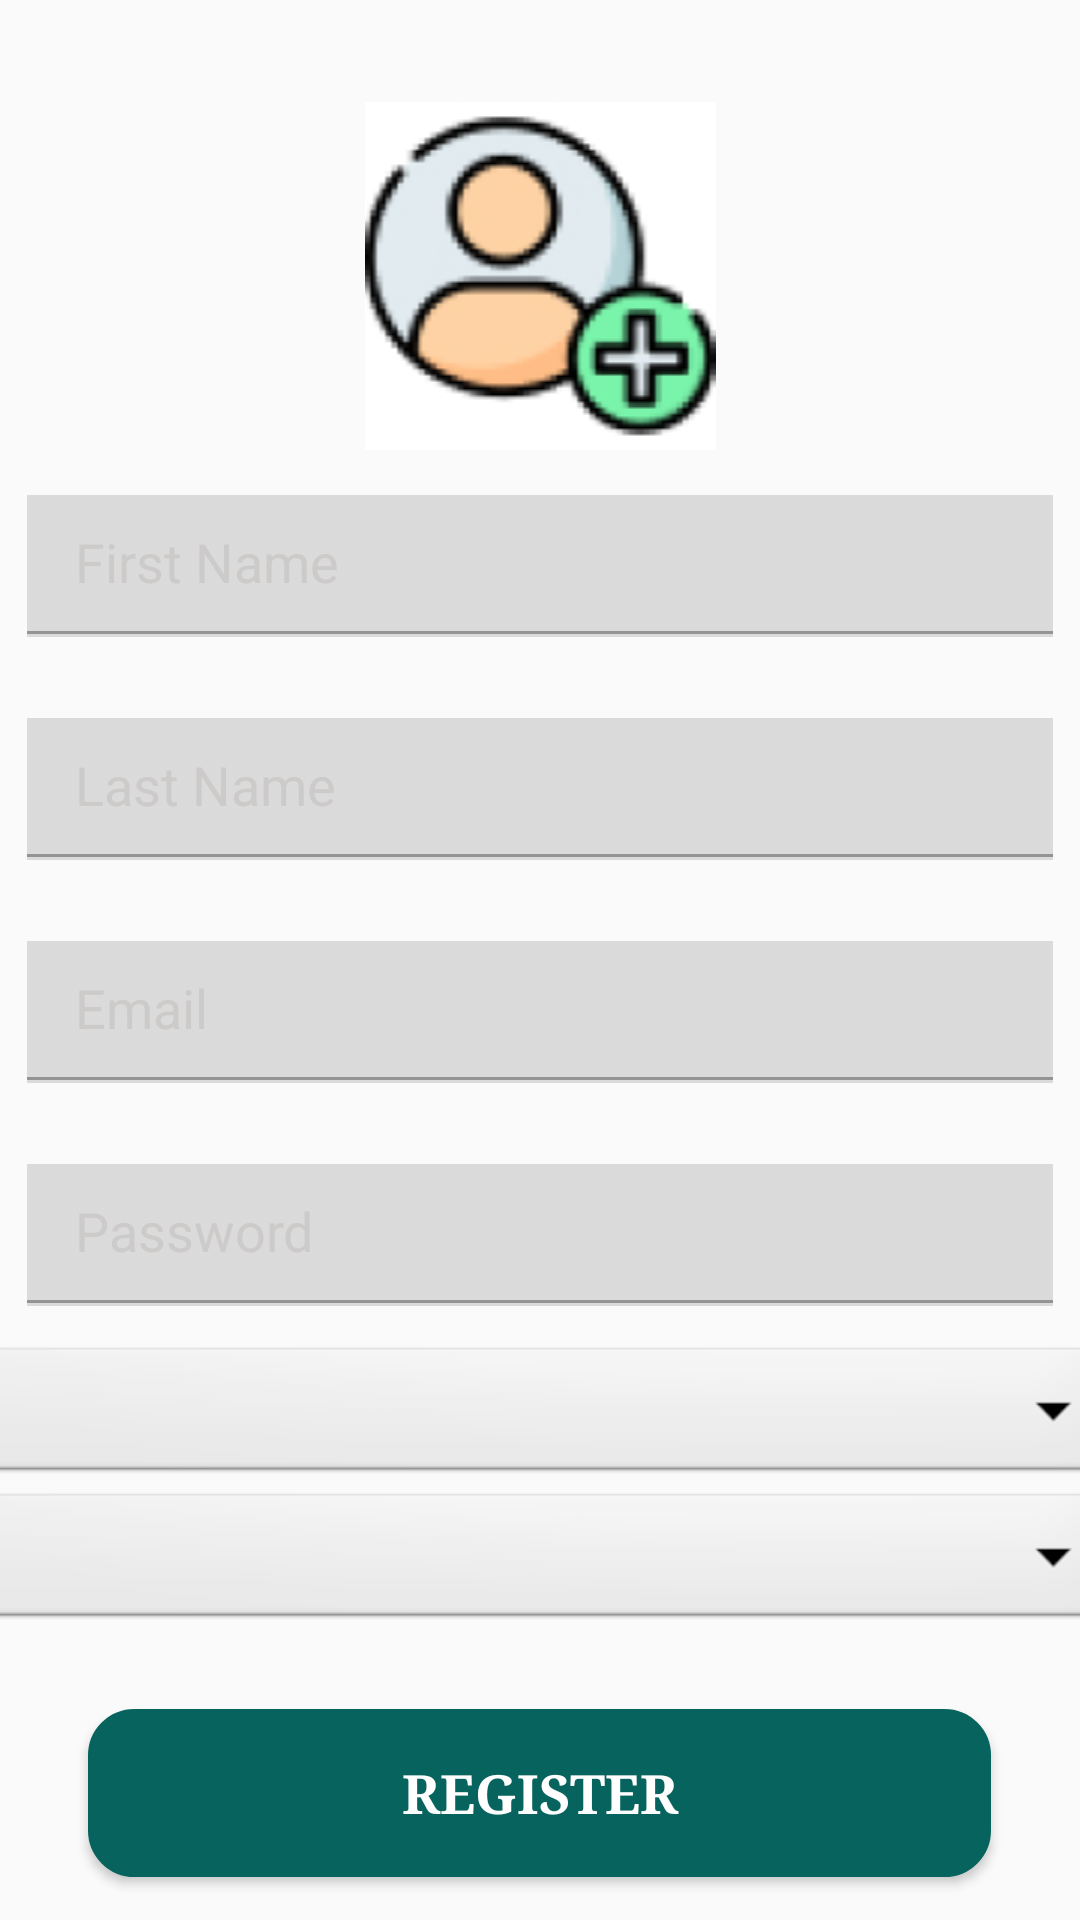

Screen size 1080 x 1920. Icon name, then its box in pixels as bbox=(x1, y1, x2, y2):
adduser: bbox=(365, 116, 716, 436)
